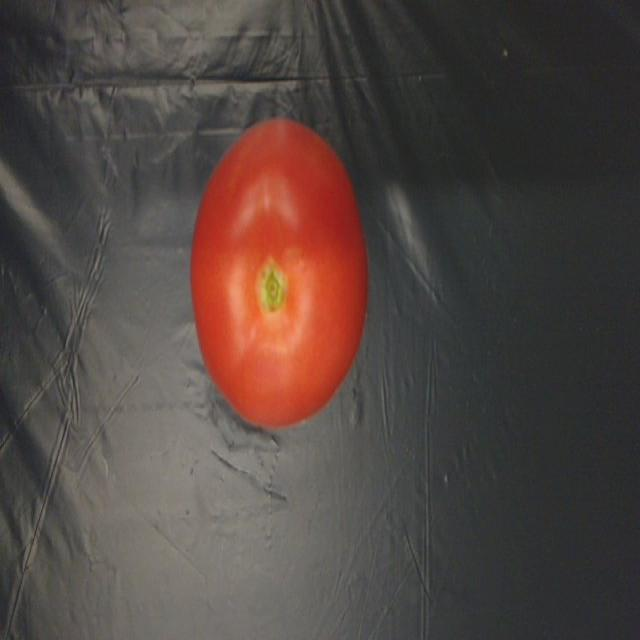sari: (177, 114, 389, 427)
